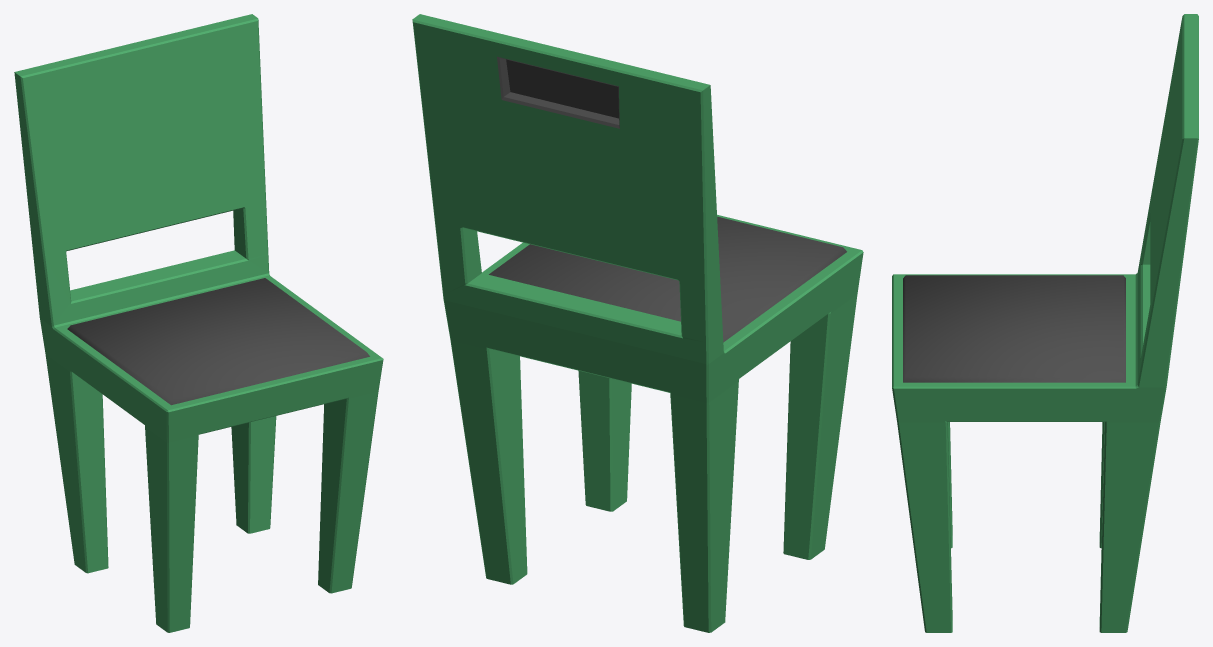
The model's file is Chair_Gr_00.FBX.
The picture shows the model from 3 angles, left to right: view 1: azimuth 30°, elevation 25°; view 2: azimuth 150°, elevation 25°; view 3: azimuth 270°, elevation 25°; orthographic projection. The views are drawn at different scales.
Visible parts, largest first — view 1: Chair_Gr_00; view 2: Chair_Gr_00; view 3: Chair_Gr_00.
Part boxes in pixels (left/top/right/bottom): Chair_Gr_00: left=14, top=14, right=383, bottom=632; Chair_Gr_00: left=412, top=14, right=863, bottom=632; Chair_Gr_00: left=892, top=14, right=1198, bottom=632.
Bounding box in the file's own units: 0.5255 × 1 × 0.548.
